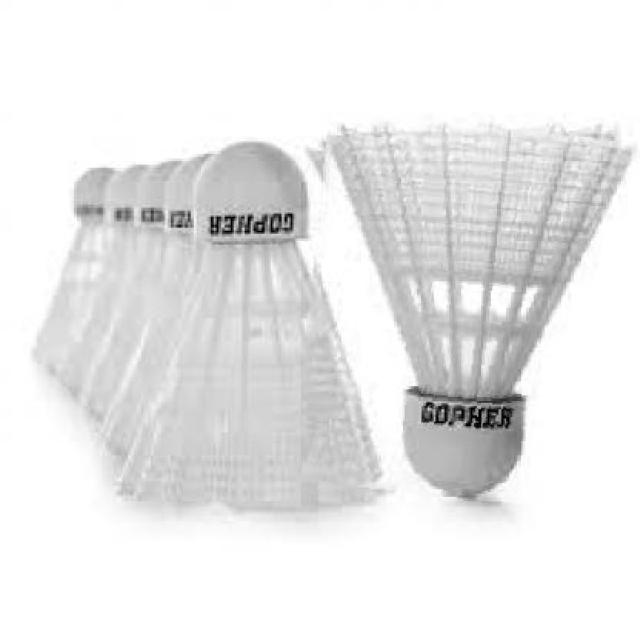Shuttlecock: (300, 119, 632, 506)
